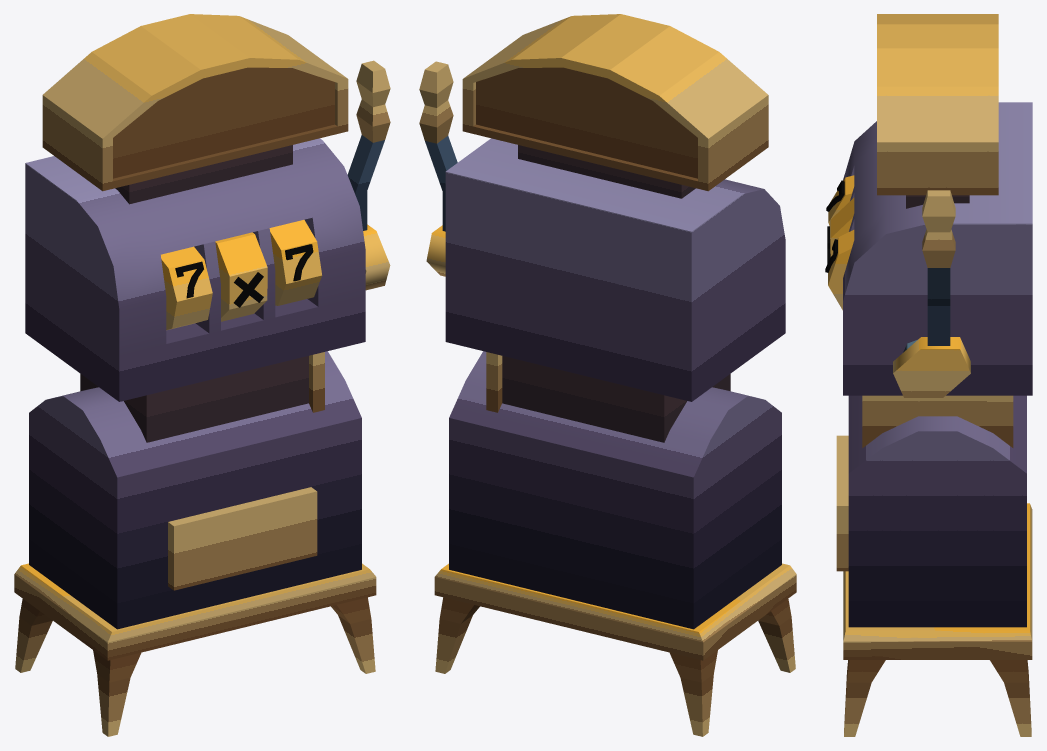
The model's file is gamba.fbx.
3 renders of one model, left to right at view 1: azimuth 30°, elevation 25°; view 2: azimuth 150°, elevation 25°; view 3: azimuth 270°, elevation 25°, orthographic.
Visible parts, largest first — view 1: gamba; view 2: gamba; view 3: gamba.
Part boxes in pixels (x1,y1,x2,y2): gamba: (14, 14, 390, 736); gamba: (419, 14, 796, 736); gamba: (825, 14, 1032, 736).
Size of the model in its own units: 473 by 883 by 262.
